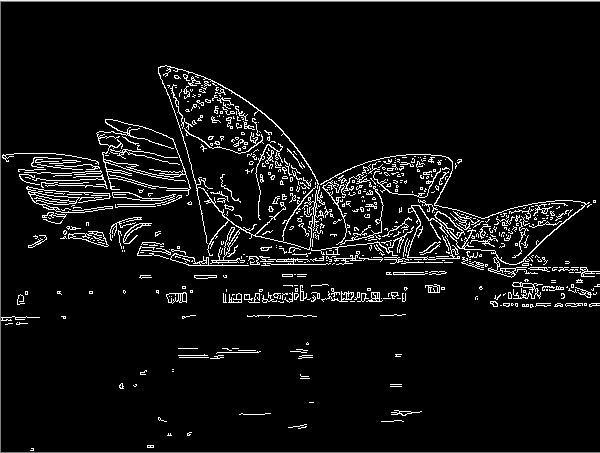opera house: (5, 45, 591, 286)
